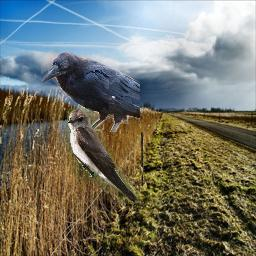Crow: (41, 50, 140, 132)
Swallow: (67, 108, 140, 204)
